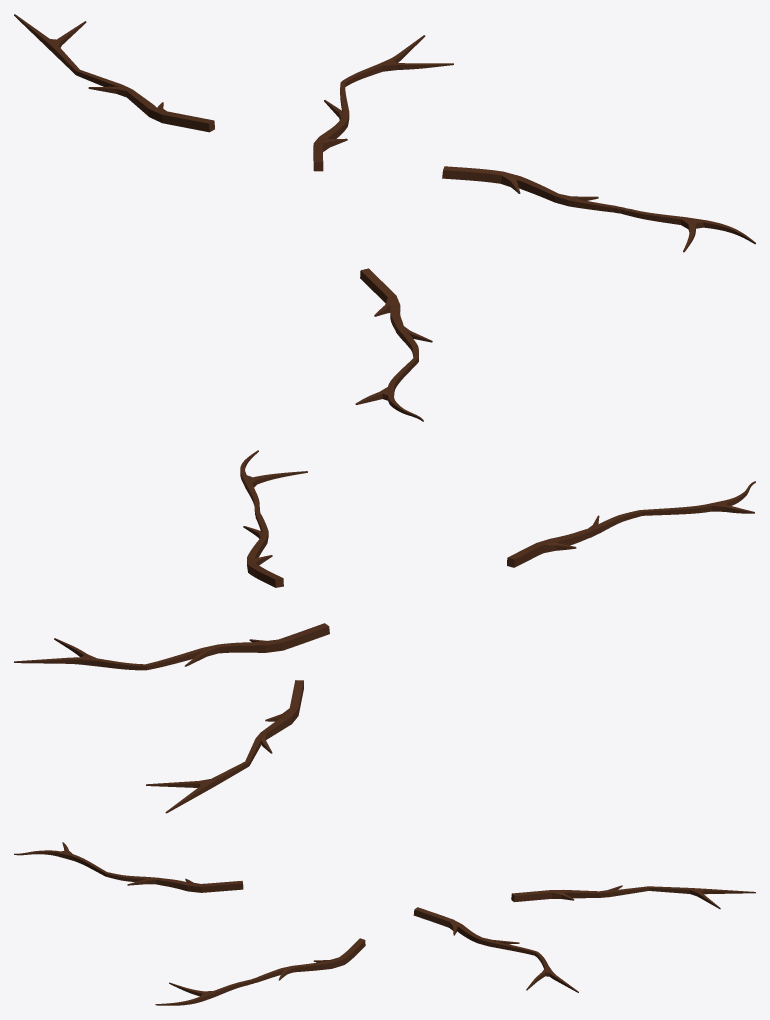
The model's file is Branches.fbx.
The picture shows the model from 3 angles, top to bottom: view 1: azimuth 30°, elevation 25°; view 2: azimuth 150°, elevation 25°; view 3: azimuth 270°, elevation 25°; orthographic projection. The views are drawn at different scales.
Visible parts, largest first — view 1: Cube.003, Cube.002, Cube.005, Cube.004; view 2: Cube.004, Cube.005, Cube.002, Cube.003; view 3: Cube.002, Cube.005, Cube.003, Cube.004.
Boxes of the visible parts, x1,y1,x2,y2 form: Cube.003: (442,166,755,252); Cube.002: (14,14,214,132); Cube.005: (355,268,432,421); Cube.004: (313,35,453,171); Cube.004: (14,623,329,670); Cube.005: (507,481,755,567); Cube.002: (146,680,303,813); Cube.003: (240,450,307,587); Cube.002: (511,885,755,909); Cube.005: (14,842,243,892); Cube.003: (155,938,365,1005); Cube.004: (413,907,578,992).
Bounding box in the file's own units: 264 × 7.84 × 511.
